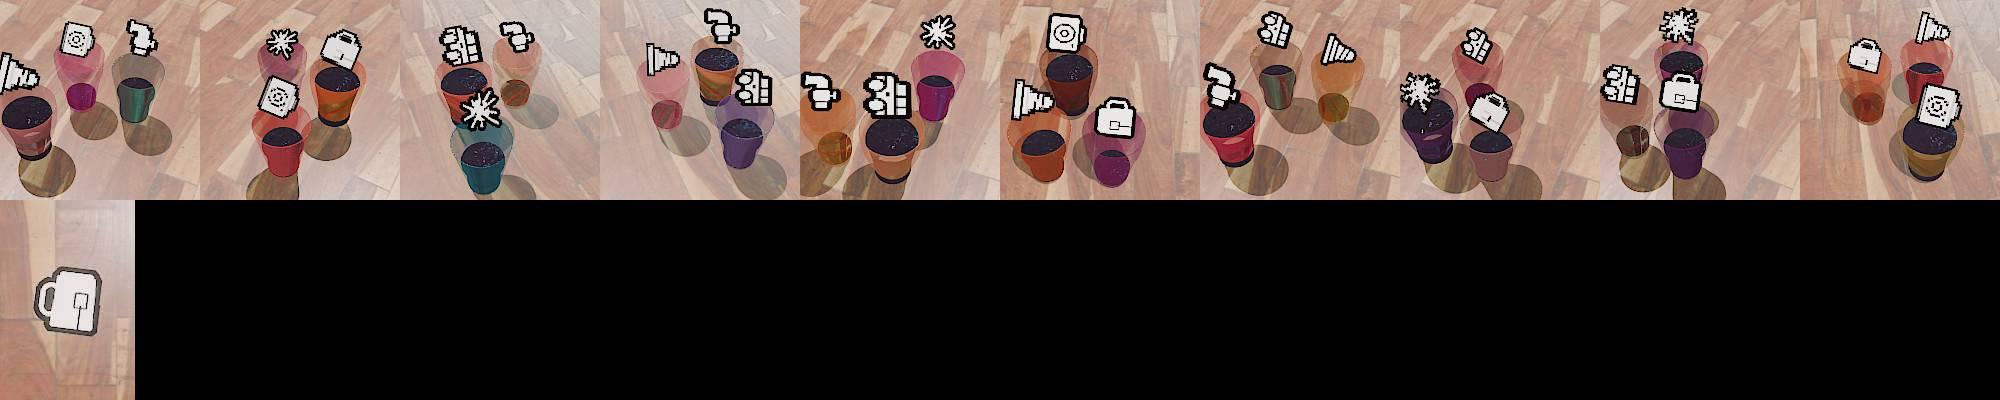icon: (28, 266, 106, 336), (862, 70, 911, 118), (1915, 83, 1960, 127), (458, 88, 504, 132), (1467, 89, 1511, 134), (800, 69, 843, 112), (1010, 78, 1054, 121), (439, 24, 483, 66), (258, 75, 300, 120), (319, 28, 364, 70), (1659, 70, 1703, 112), (1401, 69, 1444, 111), (1094, 96, 1136, 138), (1601, 62, 1642, 106), (1045, 13, 1085, 56), (0, 52, 41, 94), (1203, 61, 1237, 108), (733, 68, 773, 107), (1659, 6, 1700, 45), (918, 13, 957, 52), (703, 8, 740, 45), (60, 20, 96, 57), (1846, 37, 1883, 73), (1258, 10, 1292, 48), (1320, 32, 1356, 68), (497, 22, 536, 55), (1460, 25, 1494, 64), (125, 19, 158, 57), (647, 42, 681, 76), (1916, 11, 1952, 45), (265, 28, 298, 60)
